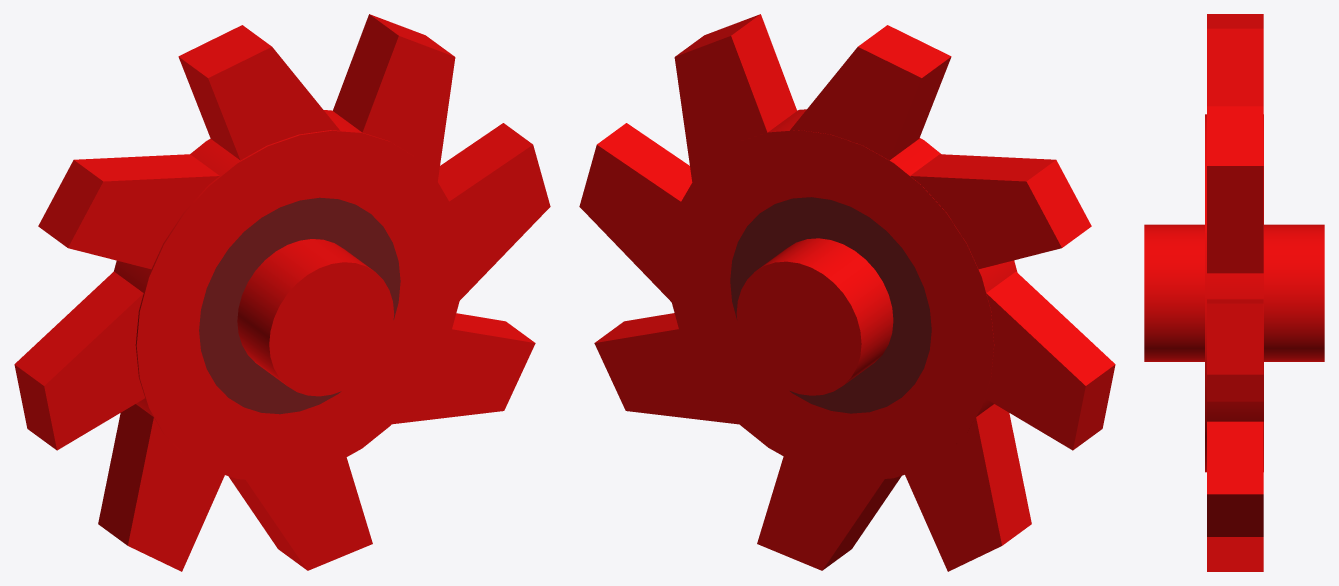
Rendered from saw blade.fbx.
3 views of the same model, side by side, from view 1: azimuth 30°, elevation 25°; view 2: azimuth 150°, elevation 25°; view 3: azimuth 270°, elevation 25° (orthographic). The views are drawn at different scales.
Visible parts, largest first — view 1: saw blade, Circle.001; view 2: saw blade, Circle.001; view 3: saw blade.
Part boxes in pixels (x1,y1,x2,y2): saw blade: (14, 14, 550, 571); Circle.001: (199, 197, 400, 414); saw blade: (579, 14, 1115, 571); Circle.001: (730, 197, 931, 413); saw blade: (1144, 14, 1324, 571).
Size of the model in its own units: 412 by 414 by 133.
